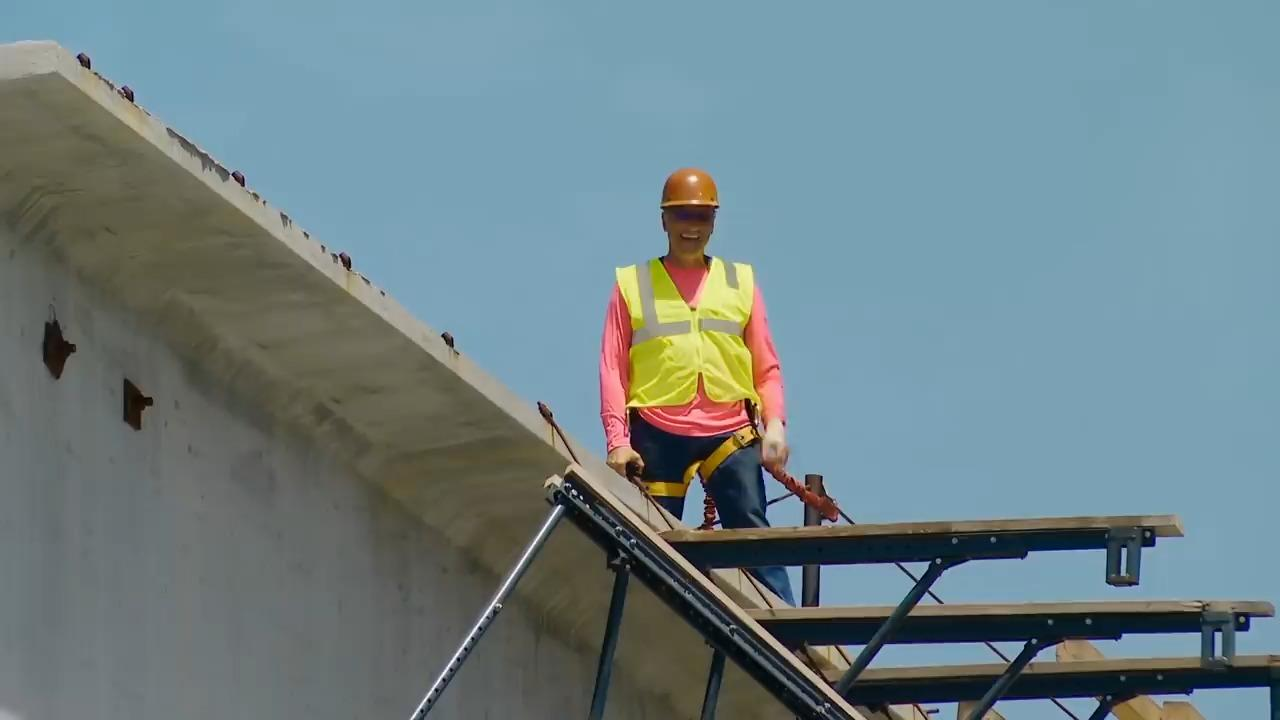Helmet: (659, 167, 719, 209)
Person: (597, 166, 798, 607)
Safety Vest: (628, 262, 747, 410)
bare-arms: (605, 436, 652, 490), (757, 421, 796, 461)
